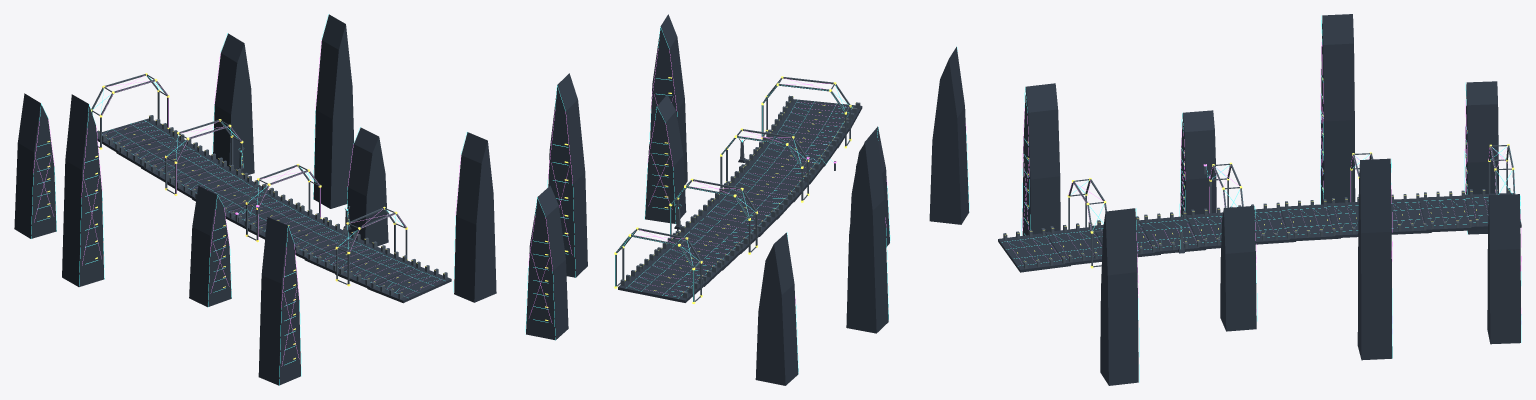
File: route_batch_7.glb
The picture shows the model from 3 angles, left to right: view 1: azimuth 30°, elevation 25°; view 2: azimuth 150°, elevation 25°; view 3: azimuth 270°, elevation 25°; orthographic projection. The views are drawn at different scales.
Parts seen in each view (by area): view 1: route_batch_7; view 2: route_batch_7; view 3: route_batch_7.
Part boxes in pixels (left/top/right/bottom): route_batch_7: left=14, top=14, right=496, bottom=385; route_batch_7: left=525, top=14, right=969, bottom=385; route_batch_7: left=998, top=14, right=1521, bottom=385.
Size of the model in its own units: 546 by 312 by 712.
